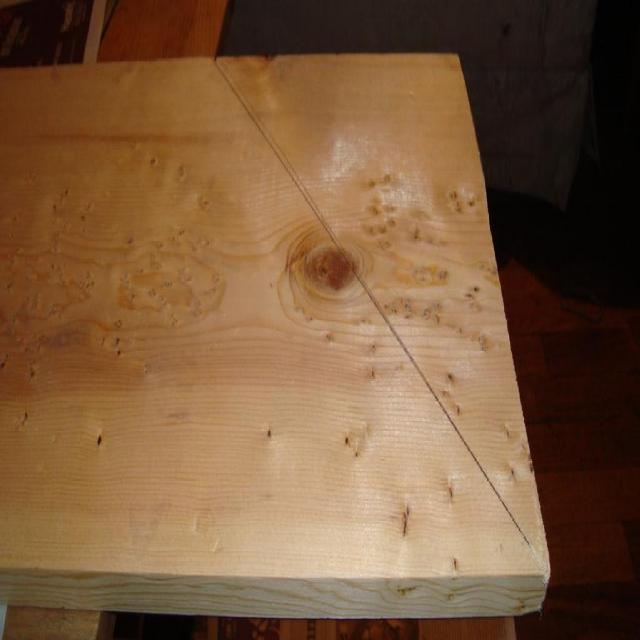table: (0, 50, 549, 567)
